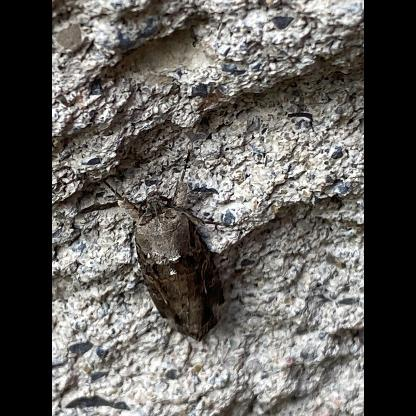Fall Armyworm Moth: (100, 148, 240, 344)
